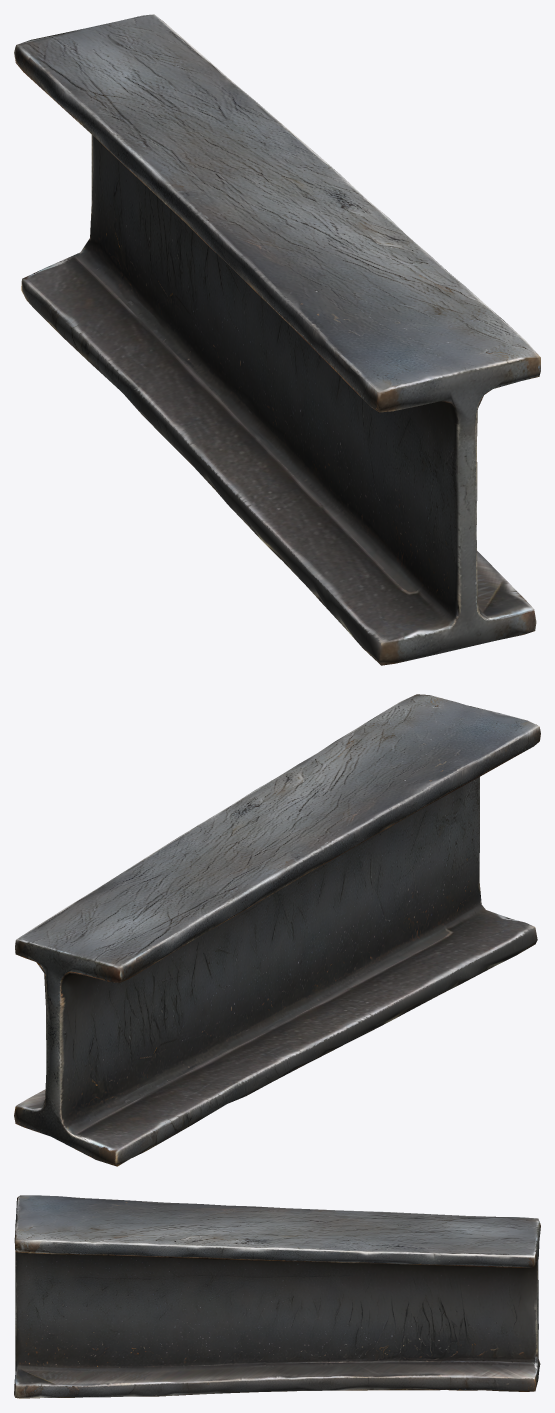
Rendered from scrap_Hbeam.fbx.
The picture shows the model from 3 angles, top to bottom: view 1: azimuth 30°, elevation 25°; view 2: azimuth 150°, elevation 25°; view 3: azimuth 270°, elevation 25°; orthographic projection. The views are drawn at different scales.
Visible parts, largest first — view 1: input; view 2: input; view 3: input.
Part boxes in pixels (x1,y1,x2,y2): input: (14, 14, 540, 665); input: (14, 694, 540, 1166); input: (14, 1195, 540, 1398).
Size of the model in its own units: 28.23 by 34.09 by 99.9.
1 material, 1 textured.
